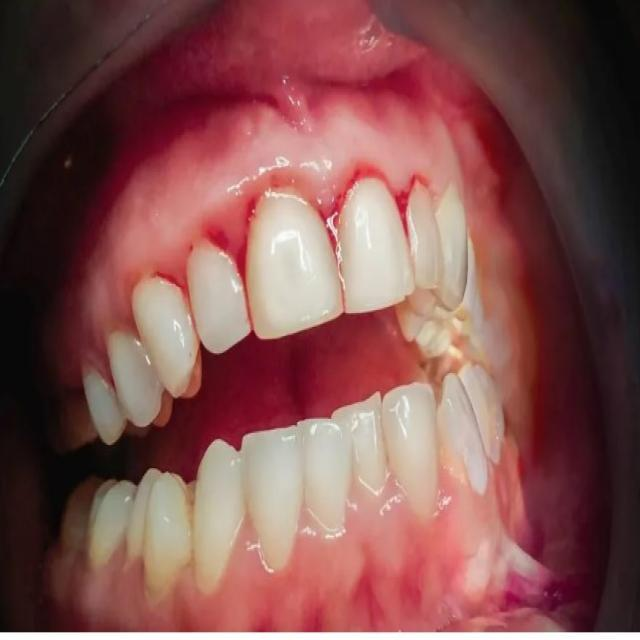bleeding: (319, 146, 397, 211), (168, 211, 242, 273), (241, 159, 311, 205), (409, 157, 432, 203)
swelling: (429, 448, 483, 523), (111, 253, 170, 299)
